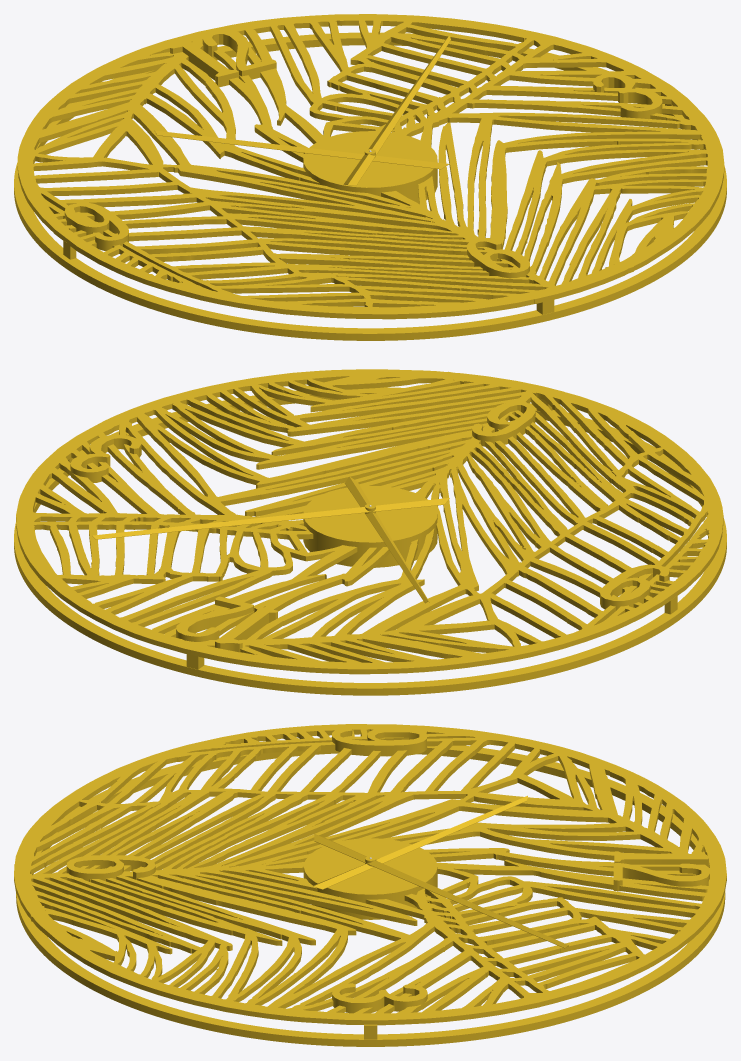
Rendered from wierd.glb.
3 views of the same model, one above another, from view 1: azimuth 30°, elevation 25°; view 2: azimuth 150°, elevation 25°; view 3: azimuth 270°, elevation 25° (orthographic).
Visible parts, largest first — view 1: Frame, Under Frame, numbers, Cylinder, hand copy, hand copy.002; view 2: Frame, Under Frame, numbers, Cylinder, hand copy.002, hand copy; view 3: Frame, Under Frame, numbers, Cylinder, hand copy.002, hand copy.
Part boxes in pixels (x1,y1,x2,y2): Frame: (17,14,724,319); Under Frame: (14,32,726,340); numbers: (64,29,662,278); Cylinder: (303,131,437,203); hand copy: (154,130,449,169); hand copy.002: (343,35,450,185); Frame: (16,369,723,674); Under Frame: (14,387,726,695); numbers: (70,401,669,652); Cylinder: (303,485,437,567); hand copy.002: (92,498,449,539); hand copy: (344,476,429,603); Frame: (14,724,726,1025); Under Frame: (16,745,725,1046); numbers: (66,727,709,1013); Cylinder: (303,838,437,919); hand copy.002: (314,834,568,948); hand copy: (313,795,527,889).
Bounding box in the file's own units: 3.75 × 0.2311 × 3.77.
